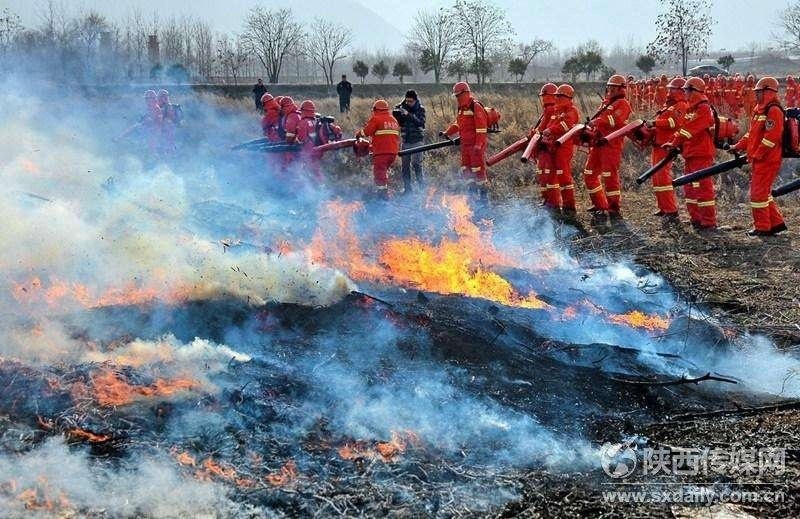fire: (298, 186, 615, 317), (14, 271, 208, 306), (165, 446, 296, 483), (333, 428, 415, 460), (5, 475, 76, 509)
